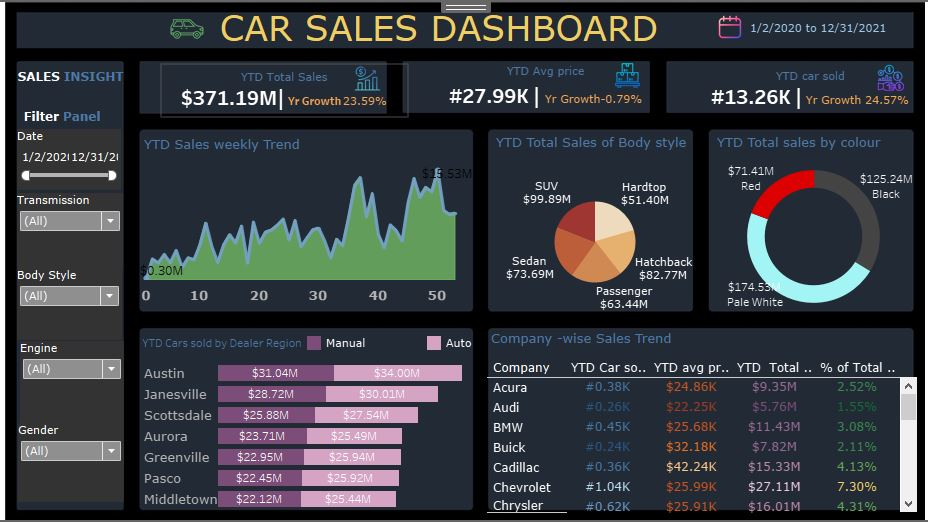

This screenshot's page, from the dashboard's own definition file:
{"tool":"tableau","page":{"name":"Dashboard 1","canvas":[1600,900],"ordinal":0},"visuals":[{"type":"worksheet","title":"date range","mark":"Automatic","box":[785,11,207,49]},{"type":"image","param":"Image/Car Icon.png","box":[229,16,55,39]},{"type":"text","box":[170,17,678,35]},{"type":"image","param":"Image/calendar.png","box":[787,21,25,30]},{"type":"text","box":[85,68,134,30]},{"type":"image","param":"Image/Avg Price Icon.png","box":[683,69,29,26]},{"type":"image","param":"Image/Sales Icon.png","box":[421,71,32,28]},{"type":"worksheet","title":"YTD car Price","mark":"Automatic","box":[492,71,248,47]},{"type":"worksheet","title":"Yr to D car sold","mark":"Automatic","box":[757,71,247,51]},{"type":"image","param":"Image/Cars Sold Icon.png","box":[945,71,32,27]},{"type":"worksheet","title":"Year TD sales","mark":"Automatic","box":[232,72,245,51]},{"type":"text","box":[91,108,100,30]},{"type":"filter","title":"YTD Sales weekly Trend","param":"[federated.0u1j1jq08ayx321bsf5fx00pau35].[none:Date:qk]","box":[87,136,104,61]},{"type":"worksheet","title":"YTD Total Sales of Body style","mark":"Pie","box":[562,137,206,193]},{"type":"worksheet","title":"YTD Total sales by colour","mark":"Pie","rows":["Calculation_942378281198297099","Calculation_942378281198297099"],"box":[783,137,201,182]},{"type":"worksheet","title":"YTD Sales weekly Trend","mark":"Area","rows":["Calculation_942378281141108736","Calculation_942378281141108736"],"cols":["Date"],"box":[210,139,333,178]},{"type":"legend","title":"YTD Total Sales of Body style","param":"[federated.0u1j1jq08ayx321bsf5fx00pau35].[none:Body Style:nk]","box":[957,140,140,118]},{"type":"filter","title":"YTD Sales weekly Trend","param":"[federated.0u1j1jq08ayx321bsf5fx00pau35].[none:Transmission:nk]","box":[87,200,106,75]},{"type":"filter","title":"YTD Sales weekly Trend","param":"[federated.0u1j1jq08ayx321bsf5fx00pau35].[none:Body Style:nk]","box":[87,275,105,72]},{"type":"worksheet","title":"Company -wise Sales Trend","mark":"Automatic","rows":["Company"],"box":[557,333,430,187]},{"type":"worksheet","title":"YTD Cars sold by Dealer Region","mark":"Automatic","rows":["Dealer_Region"],"cols":["Calculation_942378281141108736"],"box":[208,338,336,178]},{"type":"legend","title":"YTD Cars sold by Dealer Region","param":"[federated.0u1j1jq08ayx321bsf5fx00pau35].[none:Transmission:nk]","box":[374,340,277,28]},{"type":"filter","title":"YTD Sales weekly Trend","param":"[federated.0u1j1jq08ayx321bsf5fx00pau35].[none:Engine:nk]","box":[90,348,104,84]},{"type":"filter","title":"YTD Sales weekly Trend","param":"[federated.0u1j1jq08ayx321bsf5fx00pau35].[none:Gender:nk]","box":[88,430,106,79]}]}

Visuals, with their boxes in screenshot pixels (x1, y1, x2, y2), scaled from the page's 1600x900 canvas onto the 928x523 screenshot:
"date range" worksheet: Rect(455, 6, 575, 35)
image: Rect(133, 9, 165, 32)
text: Rect(99, 10, 492, 30)
image: Rect(456, 12, 471, 30)
text: Rect(49, 40, 127, 57)
image: Rect(396, 40, 413, 55)
image: Rect(244, 41, 263, 58)
"YTD car Price" worksheet: Rect(285, 41, 429, 69)
"Yr to D car sold" worksheet: Rect(439, 41, 582, 71)
image: Rect(548, 41, 567, 57)
"Year TD sales" worksheet: Rect(135, 42, 277, 71)
text: Rect(53, 63, 111, 80)
"YTD Sales weekly Trend" filter: Rect(50, 79, 111, 114)
"YTD Total Sales of Body style" worksheet (Pie marks): Rect(326, 80, 445, 192)
"YTD Total sales by colour" worksheet (Pie marks): Rect(454, 80, 571, 185)
"YTD Sales weekly Trend" worksheet (Area marks): Rect(122, 81, 315, 184)
"YTD Total Sales of Body style" legend: Rect(555, 81, 636, 150)
"YTD Sales weekly Trend" filter: Rect(50, 116, 112, 160)
"YTD Sales weekly Trend" filter: Rect(50, 160, 111, 202)
"Company -wise Sales Trend" worksheet: Rect(323, 194, 572, 302)
"YTD Cars sold by Dealer Region" worksheet: Rect(121, 196, 316, 300)
"YTD Cars sold by Dealer Region" legend: Rect(217, 198, 378, 214)
"YTD Sales weekly Trend" filter: Rect(52, 202, 113, 251)
"YTD Sales weekly Trend" filter: Rect(51, 250, 113, 296)
